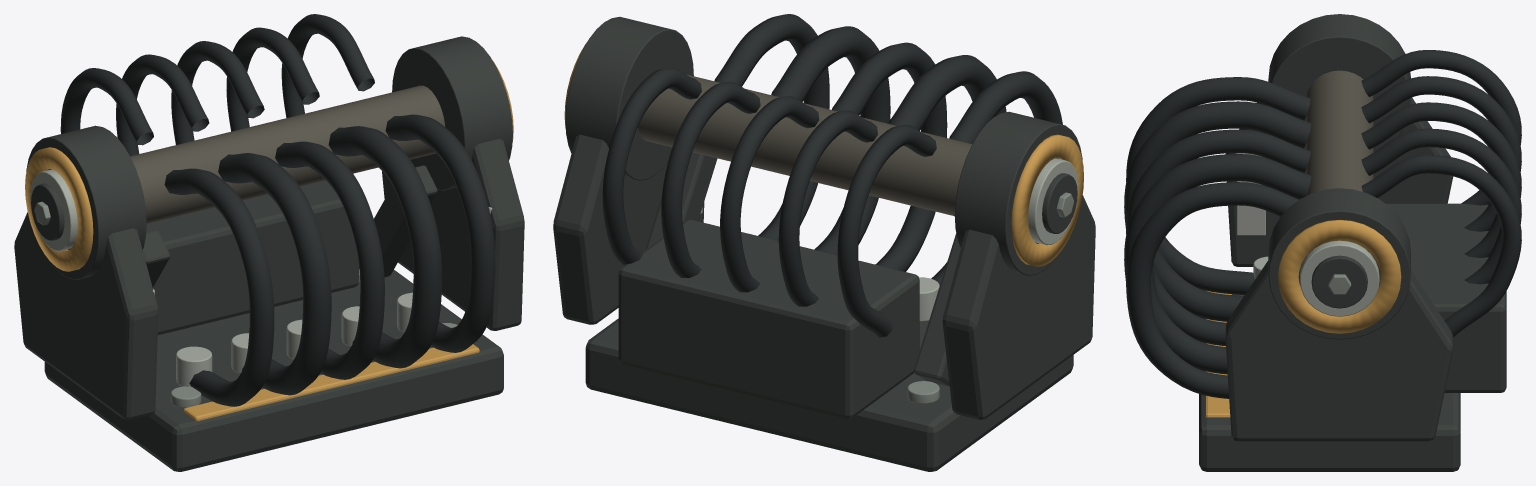
File: warden-pod-a-mount-v1.glb
3 renders of one model, left to right at view 1: azimuth 30°, elevation 25°; view 2: azimuth 150°, elevation 25°; view 3: azimuth 270°, elevation 25°, orthographic. The views are drawn at different scales.
Visible parts, largest first — view 1: A | mount | charcoal frame, A | mount | dark hose, A | mount | brown gunmetal sleeves, A | mount | ochre trim, A | mount | aged silver bands, A | mount | fasteners; view 2: A | mount | charcoal frame, A | mount | dark hose, A | mount | brown gunmetal sleeves, A | mount | ochre trim, A | mount | aged silver bands, A | mount | fasteners; view 3: A | mount | charcoal frame, A | mount | dark hose, A | mount | ochre trim, A | mount | brown gunmetal sleeves, A | mount | aged silver bands, A | mount | worn armor edges.
Boxes of the visible parts, <box> form: A | mount | charcoal frame: <box>14,36,524,471</box>; A | mount | dark hose: <box>60,14,495,406</box>; A | mount | brown gunmetal sleeves: <box>130,85,445,223</box>; A | mount | ochre trim: <box>25,60,513,421</box>; A | mount | aged silver bands: <box>30,169,412,386</box>; A | mount | fasteners: <box>34,201,457,407</box>; A | mount | charcoal frame: <box>553,16,1095,471</box>; A | mount | dark hose: <box>602,14,1062,337</box>; A | mount | brown gunmetal sleeves: <box>638,74,971,215</box>; A | mount | ochre trim: <box>564,42,1083,266</box>; A | mount | aged silver bands: <box>919,158,1078,321</box>; A | mount | fasteners: <box>907,192,1073,403</box>; A | mount | charcoal frame: <box>1199,14,1506,471</box>; A | mount | dark hose: <box>1124,50,1521,398</box>; A | mount | ochre trim: <box>1205,220,1401,417</box>; A | mount | brown gunmetal sleeves: <box>1305,70,1373,195</box>; A | mount | aged silver bands: <box>1253,240,1379,316</box>; A | mount | worn armor edges: <box>1236,153,1265,235</box>.
Bounding box in the file's own units: 0.79 × 0.495 × 0.6078.
